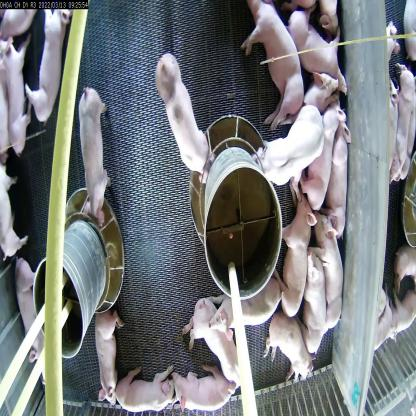Pig: (231, 0, 293, 104), (71, 74, 113, 224), (185, 286, 245, 389), (310, 194, 348, 345), (27, 7, 71, 128), (274, 198, 320, 312), (266, 88, 316, 190), (300, 90, 338, 213), (114, 360, 196, 416), (0, 37, 36, 156), (265, 309, 316, 393), (86, 309, 126, 416), (216, 271, 282, 335), (174, 361, 246, 416), (309, 248, 328, 363)
